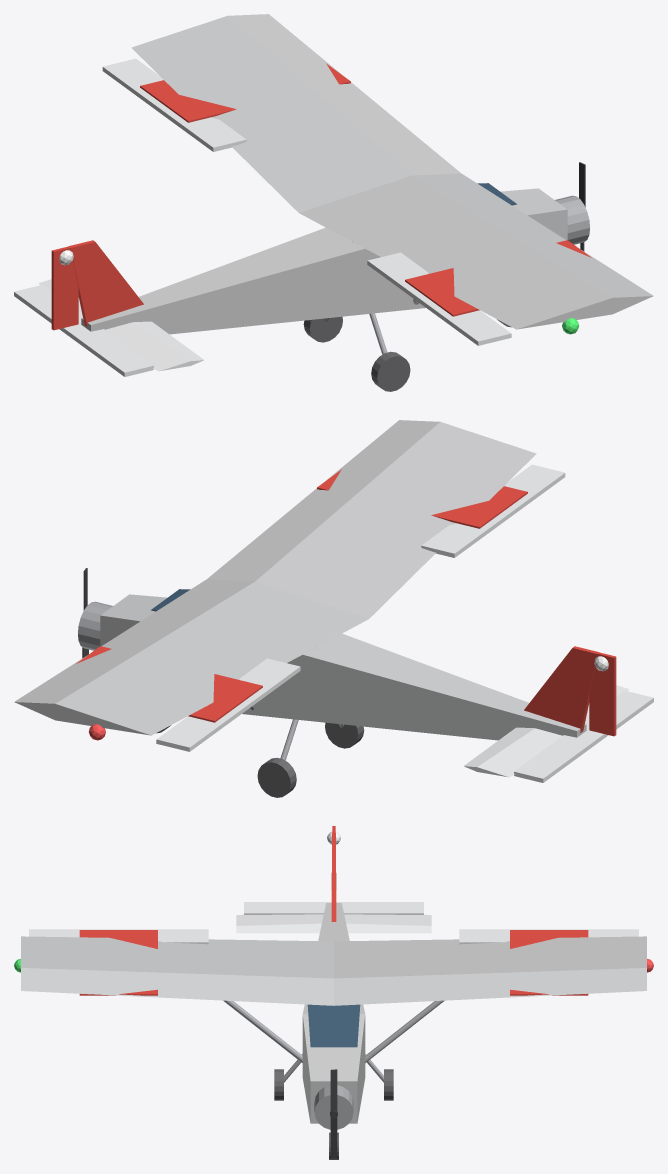
Rendered from smv_trainer.glb.
3 views of the same model, one above another, from view 1: azimuth 30°, elevation 25°; view 2: azimuth 150°, elevation 25°; view 3: azimuth 270°, elevation 25° (orthographic). The views are drawn at different scales.
Visible parts, largest first — view 1: trainer_v2, trainer_v0, trainer_v8, aileron_r_v0, aileron_l_v0, elevator_v0, trainer_v7, rudder_v0, trainer_v3, trainer_v4, trainer_v14, trainer_v9 (+1 smaller); view 2: trainer_v2, trainer_v0, trainer_v8, aileron_l_v0, aileron_r_v0, elevator_v0, trainer_v7, rudder_v0, trainer_v4, trainer_v3, trainer_v12, trainer_v9 (+1 smaller); view 3: trainer_v2, trainer_v0, trainer_v7, trainer_v1, elevator_v0, aileron_l_v0, aileron_r_v0, trainer_v9, trainer_v3, trainer_v4, propeller_v0, trainer_v6 (+1 smaller).
Part boxes in pixels (x1,y1,x2,y2): trainer_v2: [131, 14, 653, 329]; trainer_v0: [81, 188, 567, 334]; trainer_v8: [69, 240, 143, 326]; aileron_r_v0: [367, 252, 511, 345]; aileron_l_v0: [102, 58, 246, 151]; elevator_v0: [14, 284, 153, 376]; trainer_v7: [38, 279, 204, 371]; rudder_v0: [51, 244, 78, 330]; trainer_v3: [140, 63, 350, 122]; trainer_v4: [405, 240, 591, 316]; trainer_v14: [371, 351, 410, 391]; trainer_v9: [555, 195, 589, 244]; trainer_v2: [14, 420, 536, 735]; trainer_v0: [100, 594, 586, 740]; trainer_v8: [524, 646, 598, 732]; aileron_l_v0: [156, 658, 300, 751]; aileron_r_v0: [421, 464, 565, 557]; elevator_v0: [514, 690, 653, 782]; trainer_v7: [463, 685, 629, 777]; rudder_v0: [589, 650, 616, 736]; trainer_v4: [317, 469, 527, 528]; trainer_v3: [76, 646, 262, 722]; trainer_v12: [257, 757, 296, 797]; trainer_v9: [78, 601, 112, 650]; trainer_v2: [21, 936, 646, 1005]; trainer_v0: [302, 903, 365, 1123]; trainer_v7: [236, 914, 431, 933]; trainer_v1: [307, 1004, 360, 1047]; elevator_v0: [244, 902, 423, 914]; aileron_l_v0: [459, 929, 638, 944]; aileron_r_v0: [29, 929, 208, 944]; trainer_v9: [314, 1085, 353, 1129]; trainer_v3: [510, 930, 588, 995]; trainer_v4: [79, 930, 157, 995]; propeller_v0: [330, 1069, 337, 1158]; trainer_v6: [223, 1000, 302, 1062].
Size of the model in its own units: 1.27 by 0.4404 by 1.64.
